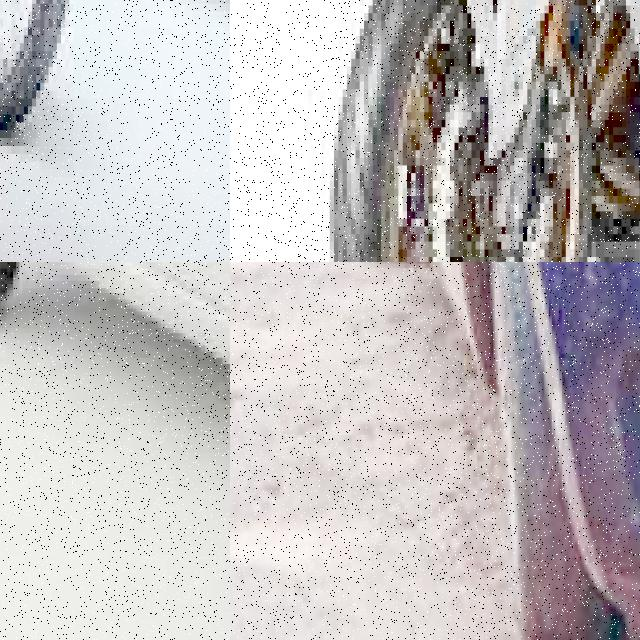bike: (325, 0, 640, 262), (77, 0, 230, 98), (0, 0, 85, 146)
car: (329, 262, 640, 640), (0, 262, 230, 625)
